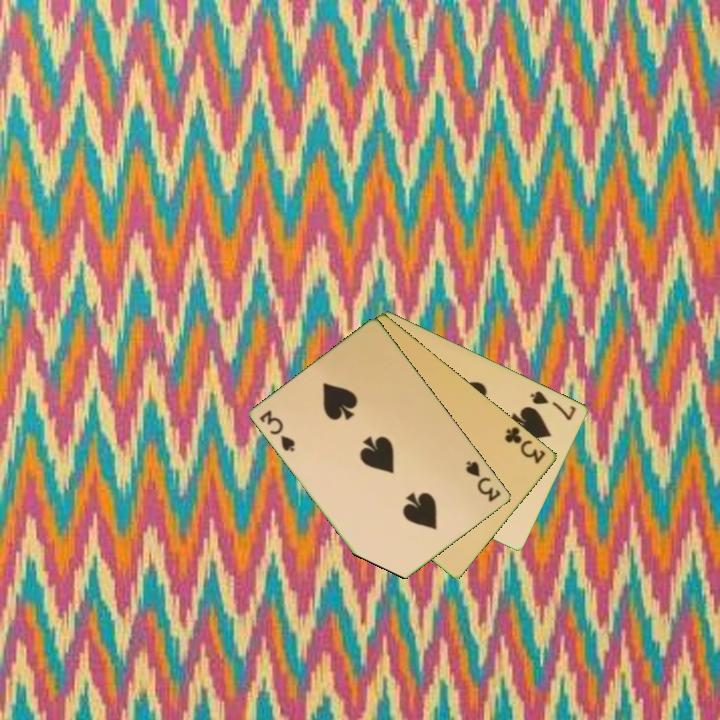3c: (501, 423, 549, 467)
3s: (256, 406, 298, 455), (462, 457, 504, 505)
7s: (527, 387, 579, 423)
